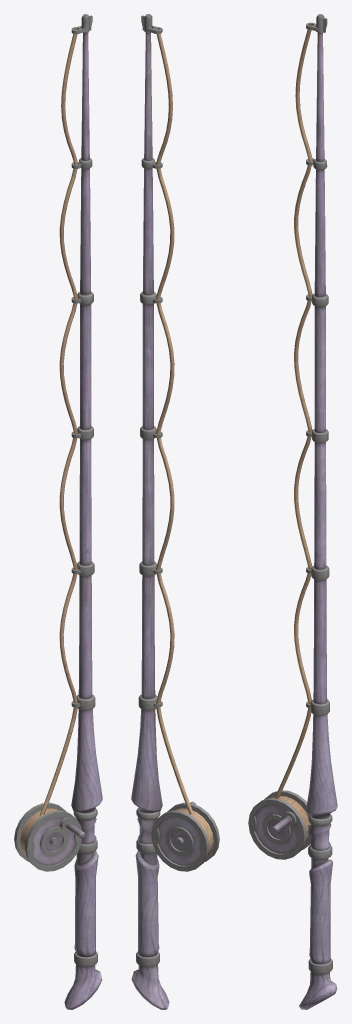
3 renders of one model, left to right at view 1: azimuth 30°, elevation 25°; view 2: azimuth 150°, elevation 25°; view 3: azimuth 330°, elevation 25°, orthographic.
Parts seen in each view (by area): view 1: SM_Fishing_Rod_2H_03_LOD0; view 2: SM_Fishing_Rod_2H_03_LOD0; view 3: SM_Fishing_Rod_2H_03_LOD0.
Part boxes in pixels (<box>): SM_Fishing_Rod_2H_03_LOD0: <box>14,14,102,1009</box>; SM_Fishing_Rod_2H_03_LOD0: <box>131,14,219,1009</box>; SM_Fishing_Rod_2H_03_LOD0: <box>248,14,337,1009</box>.
Size of the model in its own units: 0.2307 by 2.7 by 0.1444.
1 material, 1 textured.
